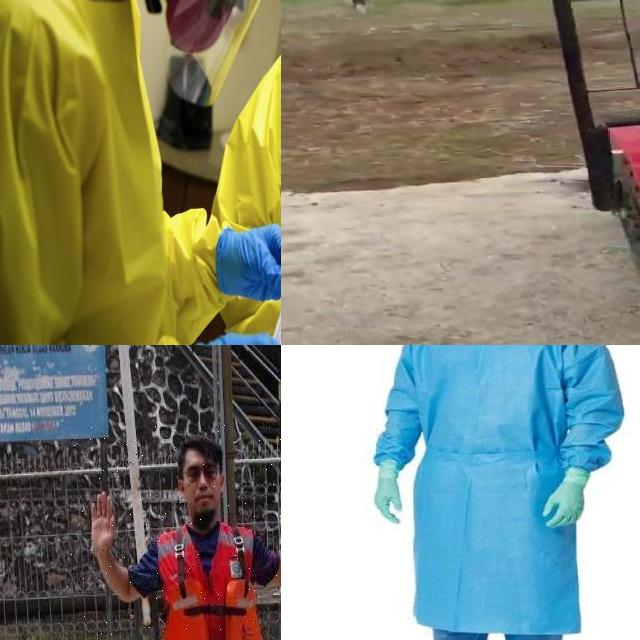GLASS: (184, 466, 221, 483)
Glove: (526, 455, 623, 564), (350, 458, 428, 540)
VEST: (155, 524, 268, 640)
